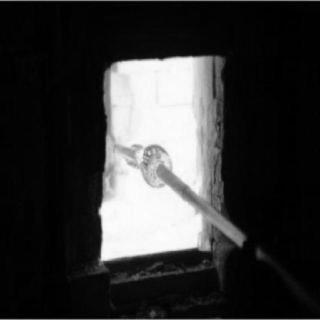Fire: (94, 57, 206, 261)
